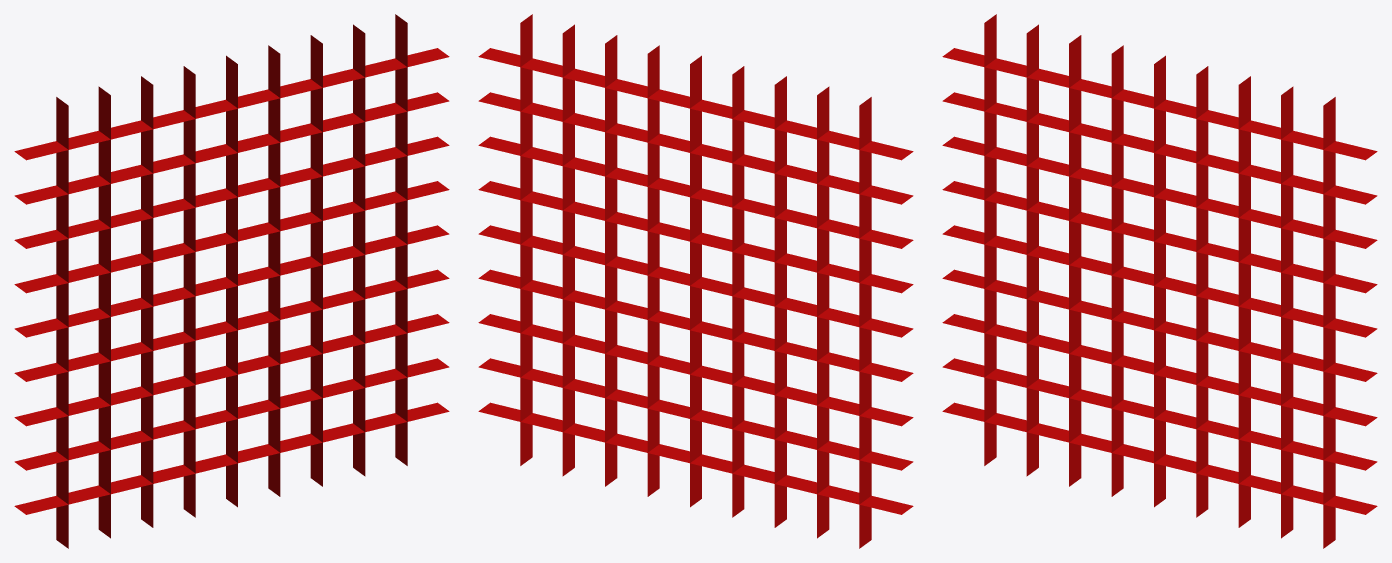
The model's file is simple_waffle.obj.
3 renders of one model, left to right at view 1: azimuth 30°, elevation 25°; view 2: azimuth 150°, elevation 25°; view 3: azimuth 330°, elevation 25°, orthographic.
Size of the model in its own units: 20 by 20 by 1.
